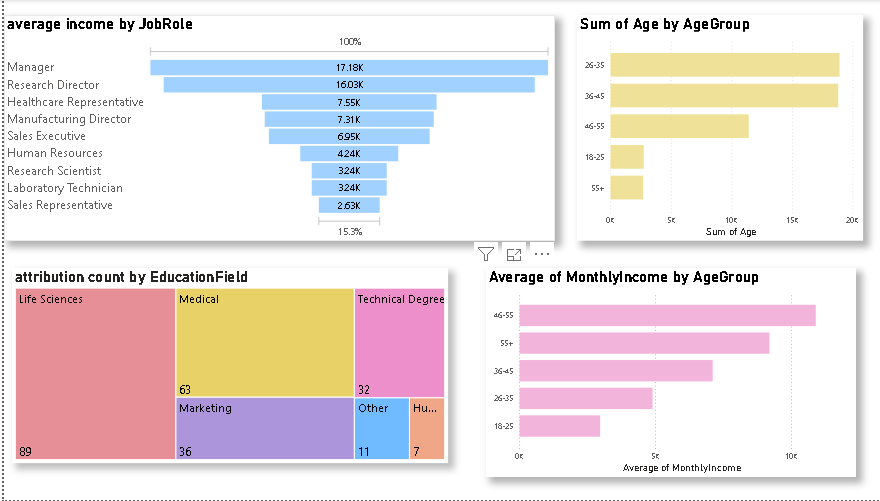

Layout of this report page (visuals, bound fields, positions):
{"tool":"powerbi","page":{"name":"Page 2","canvas":[1280,720],"ordinal":1},"visuals":[{"type":"funnel","fields":{"Category":["HR_Analysis.JobRole"],"Y":["HR_Analysis.average income"]},"box":[0,21.6,793.4,325.4],"z":0},{"type":"clusteredBarChart","fields":{"Category":["HR_Analysis.AgeGroup"],"Y":["Avg(HR_Analysis.MonthlyIncome)"]},"box":[694.1,385.9,532.8,301],"z":2000},{"type":"treemap","fields":{"Group":["HR_Analysis.EducationField"],"Values":["HR_Analysis.attribution count"]},"box":[11.5,385.9,627.8,280.8],"z":4000},{"type":"clusteredBarChart","fields":{"Category":["HR_Analysis.AgeGroup"],"Y":["Sum(HR_Analysis.Age)"]},"box":[825.1,21.6,411.8,325.4],"z":4001}]}

Visuals, with their boxes in screenshot pixels (x1, y1, x2, y2), scaled from the page's 1280x720 canvas onto the 880x501 screenshot:
funnel - HR_Analysis.JobRole x HR_Analysis.average income: crop(0, 15, 545, 241)
clusteredBarChart - HR_Analysis.AgeGroup x Avg(HR_Analysis.MonthlyIncome): crop(477, 269, 843, 478)
treemap - HR_Analysis.EducationField x HR_Analysis.attribution count: crop(8, 269, 440, 464)
clusteredBarChart - HR_Analysis.AgeGroup x Sum(HR_Analysis.Age): crop(567, 15, 850, 241)
